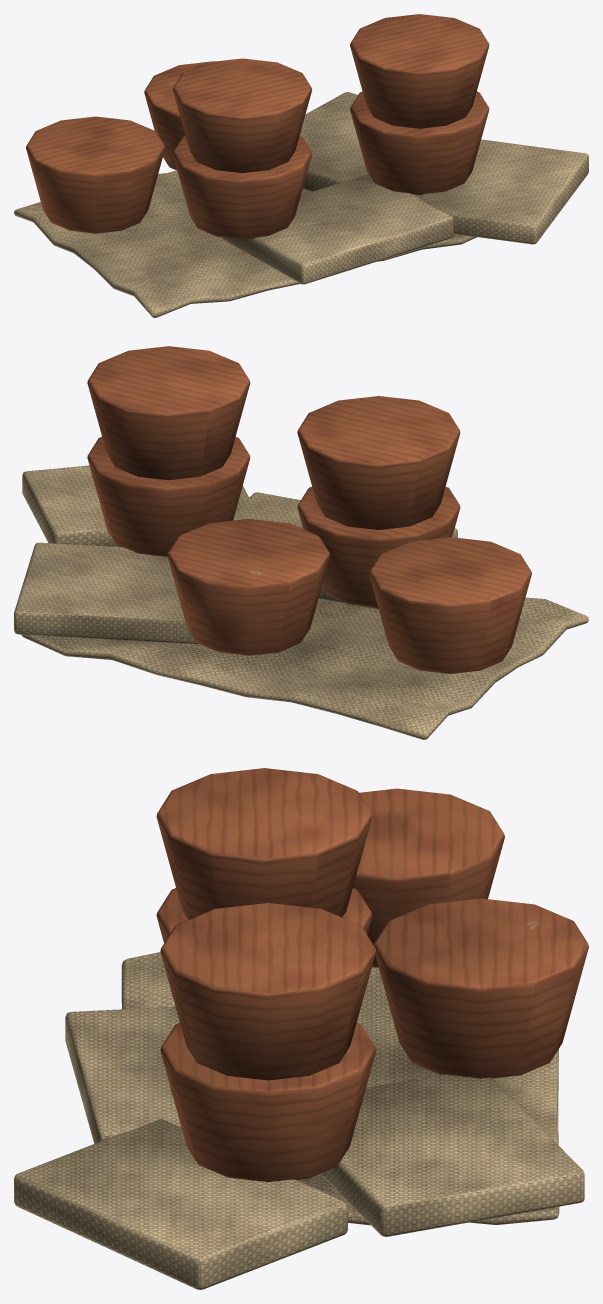
The model's file is mat_basket.glb.
The picture shows the model from 3 angles, top to bottom: view 1: azimuth 30°, elevation 25°; view 2: azimuth 150°, elevation 25°; view 3: azimuth 270°, elevation 25°; orthographic projection. The views are drawn at different scales.
Visible parts, largest first — view 1: mat_basket; view 2: mat_basket; view 3: mat_basket.
Boxes of the visible parts, x1,y1,x2,y2 form: mat_basket: (14,14,588,317); mat_basket: (14,346,588,739); mat_basket: (14,768,588,1289).
Size of the model in its own units: 1.2 by 0.3975 by 0.7888.
2 materials, 2 textured.
